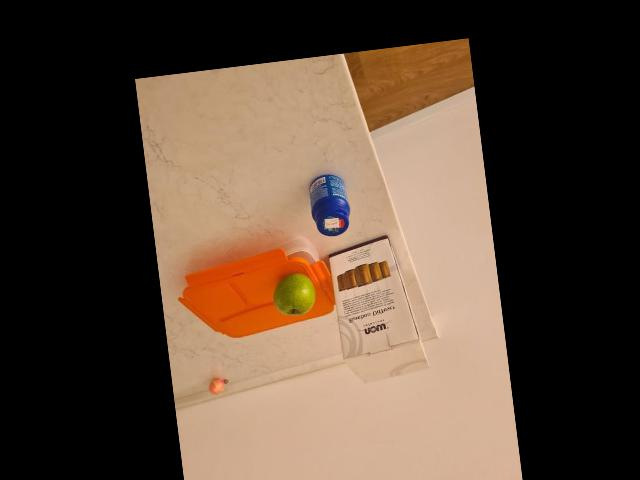apple: (272, 270, 322, 319)
